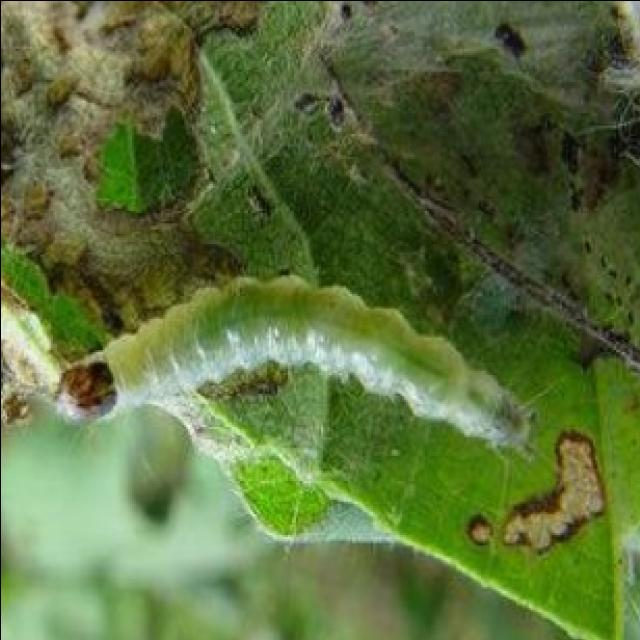rice leaf roller: (56, 276, 528, 445)
